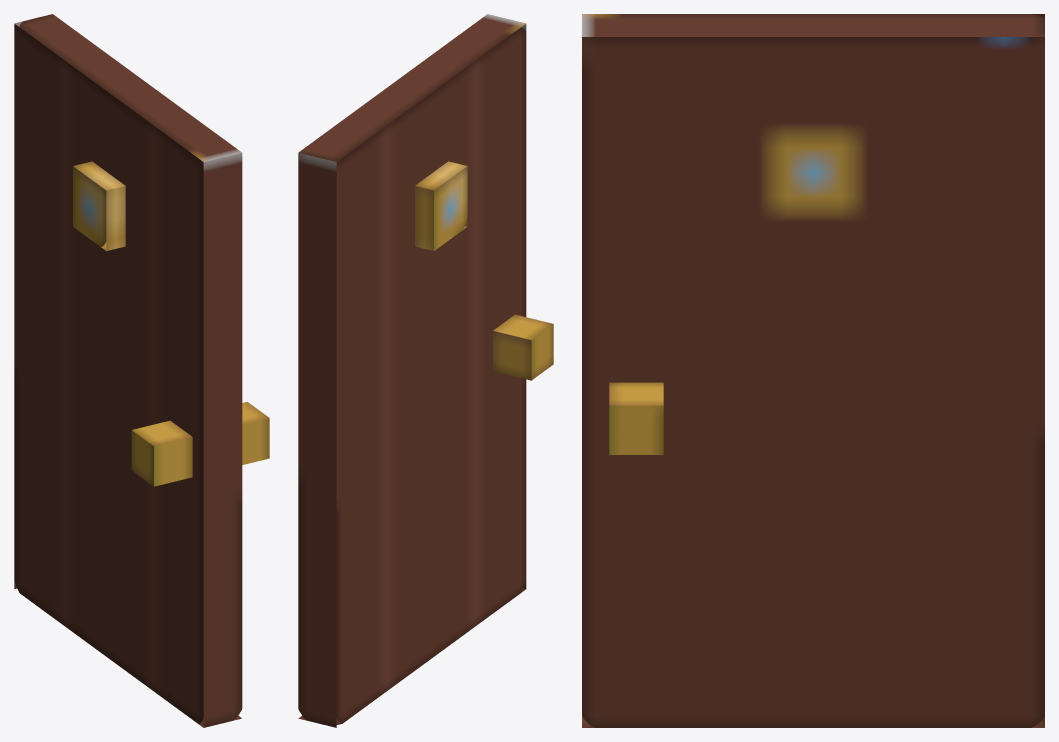
The model's file is Door.fbx.
The picture shows the model from 3 angles, left to right: view 1: azimuth 30°, elevation 25°; view 2: azimuth 150°, elevation 25°; view 3: azimuth 270°, elevation 25°; orthographic projection. The views are drawn at different scales.
Parts seen in each view (by area): view 1: cube, cube_1, cube_2, cube_3; view 2: cube, cube_1, cube_2; view 3: cube, cube_3.
Boxes of the visible parts, left/top/right/bottom form: cube: left=14, top=14, right=242, bottom=727; cube_1: left=73, top=161, right=125, bottom=250; cube_2: left=131, top=420, right=192, bottom=486; cube_3: left=242, top=402, right=269, bottom=464; cube: left=298, top=14, right=526, bottom=727; cube_1: left=415, top=161, right=467, bottom=250; cube_2: left=493, top=314, right=553, bottom=380; cube: left=582, top=14, right=1044, bottom=727; cube_3: left=609, top=382, right=663, bottom=454.
Size of the model in its own units: 37.5 by 175 by 106.
